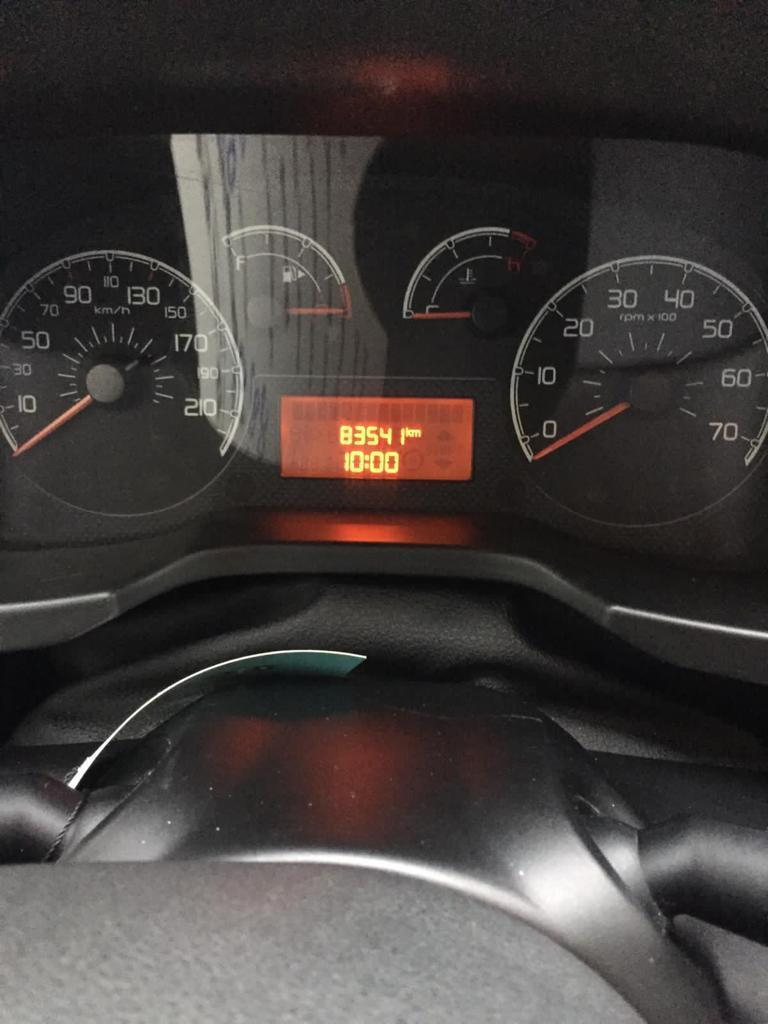0: (369, 449, 384, 473), (384, 451, 399, 474), (350, 449, 363, 473)
1: (399, 426, 405, 447), (343, 450, 349, 471)
3: (353, 423, 365, 446)
4: (379, 426, 392, 446)
5: (366, 424, 378, 446)
8: (339, 424, 352, 445)
X: (412, 427, 422, 438), (364, 452, 369, 469), (406, 425, 412, 437)
odometer: (278, 391, 475, 481)
